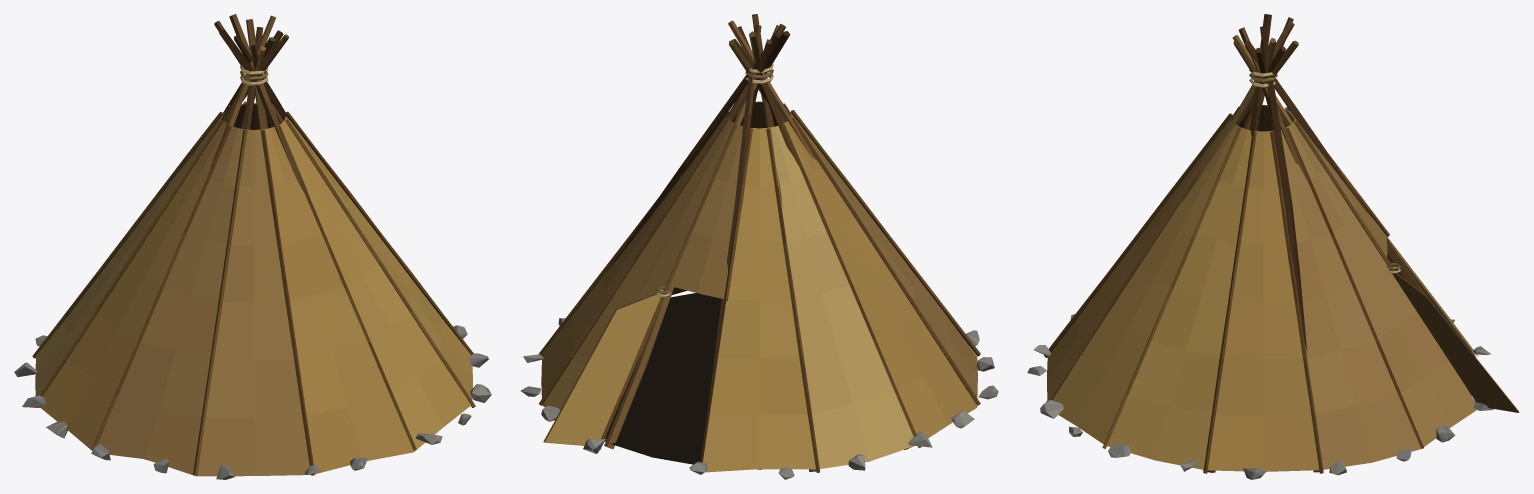
Rendered from hide_tent_3_finita.glb.
3 renders of one model, left to right at view 1: azimuth 30°, elevation 25°; view 2: azimuth 150°, elevation 25°; view 3: azimuth 270°, elevation 25°, orthographic.
Visible parts, largest first — view 1: hide_tent_3_finita; view 2: hide_tent_3_finita; view 3: hide_tent_3_finita.
Boxes of the visible parts, x1,y1,x2,y2 form: hide_tent_3_finita: (14, 14, 491, 479); hide_tent_3_finita: (520, 14, 998, 479); hide_tent_3_finita: (1027, 14, 1519, 479).
Bounding box in the file's own units: 7.08 × 6 × 7.35.
